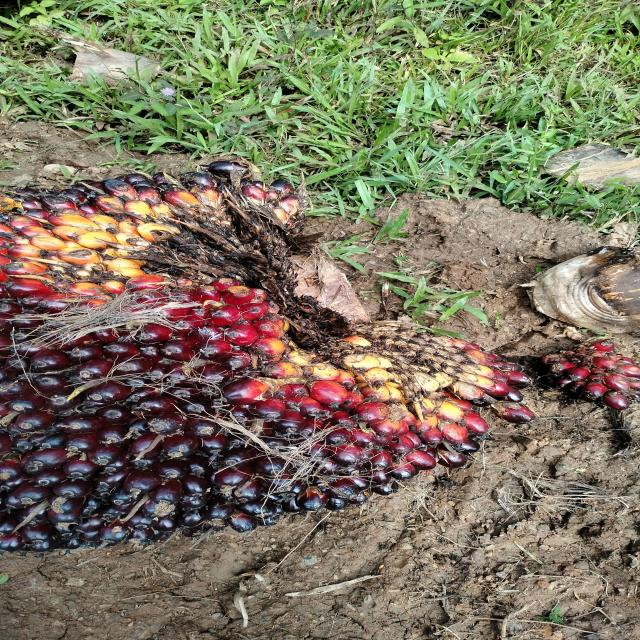fraksi 1: (0, 140, 533, 591)
